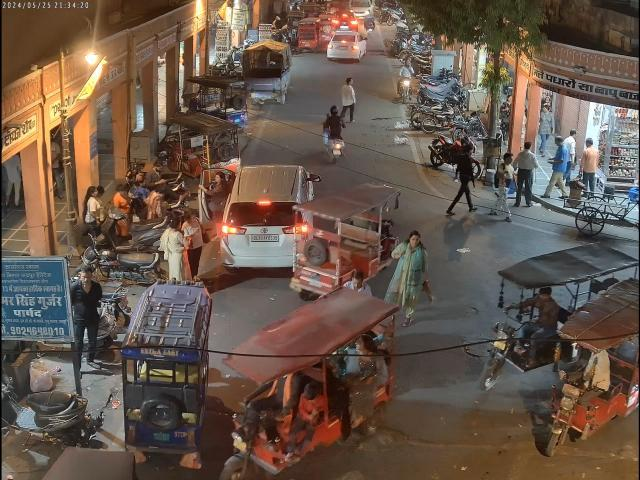auto: (486, 236, 633, 382), (542, 274, 640, 464), (121, 281, 212, 464), (293, 182, 401, 304), (172, 110, 240, 183)
car: (221, 160, 316, 270)
helmet: (330, 104, 340, 114)
license_plate: (252, 234, 280, 244)
lorry: (242, 41, 290, 103)
motorbike: (222, 287, 398, 480), (80, 239, 158, 281), (429, 130, 479, 174), (407, 99, 457, 130), (452, 110, 487, 140)
motorbike-rider: (399, 59, 415, 100)
person: (388, 230, 432, 324), (70, 264, 102, 378), (447, 146, 479, 216), (162, 214, 186, 282), (494, 153, 516, 224), (545, 138, 570, 198), (184, 212, 206, 280), (516, 142, 536, 209), (110, 180, 132, 238), (580, 138, 600, 198), (338, 75, 356, 123), (84, 184, 100, 237), (499, 92, 514, 144), (539, 105, 554, 154)
scooty: (0, 370, 86, 449), (101, 212, 170, 246)
scooty-rider: (322, 106, 344, 164)
